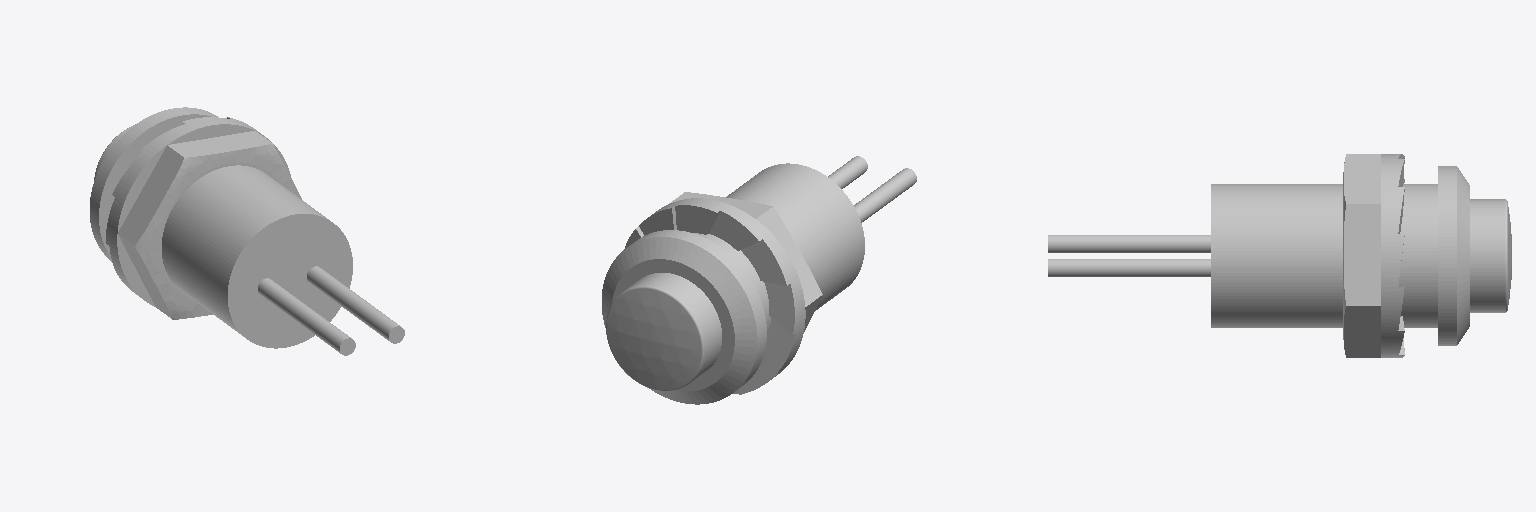
Rendered from BoutonPoussoir.obj.
3 renders of one model, left to right at view 1: azimuth 30°, elevation 25°; view 2: azimuth 150°, elevation 25°; view 3: azimuth 270°, elevation 25°, orthographic.
Visible parts, largest first — view 1: obj1; view 2: obj1; view 3: obj1.
Part boxes in pixels (bbox=[...]): obj1: bbox=[90, 107, 404, 355]; obj1: bbox=[602, 156, 916, 404]; obj1: bbox=[1048, 154, 1511, 357].
Bounding box in the file's own units: 16.17 × 16.16 × 36.91.